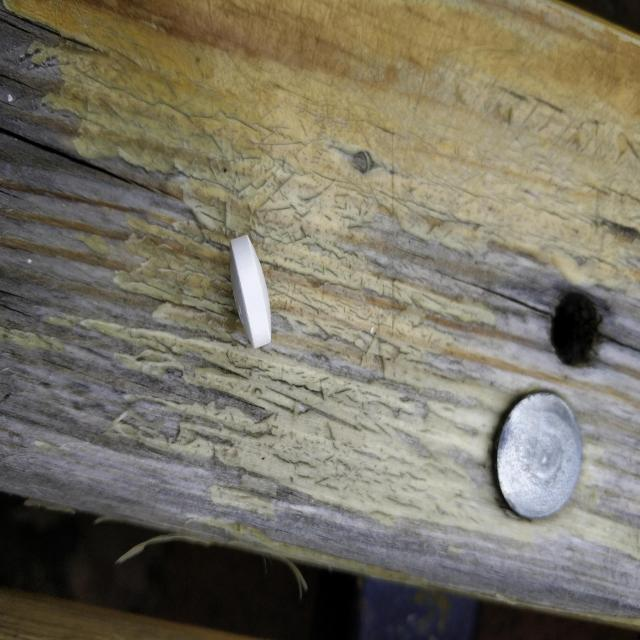pill: (220, 234, 278, 348)
